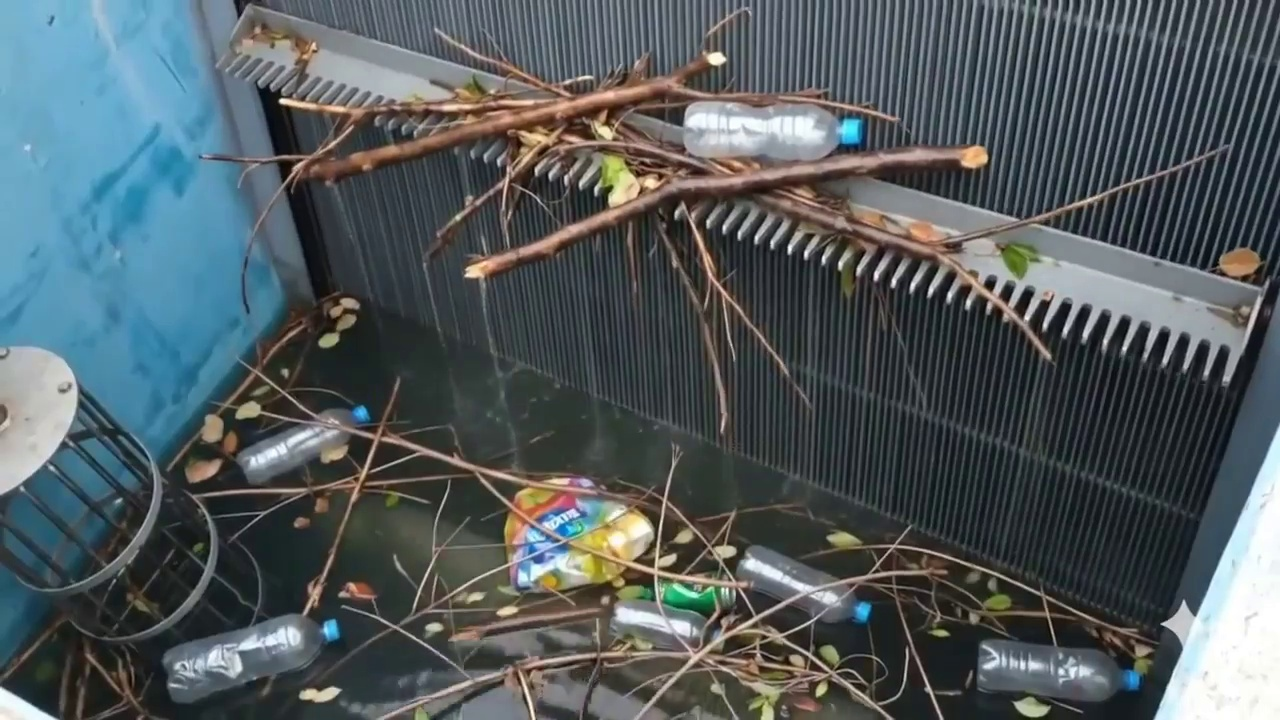debris: (255, 28, 1246, 439), (504, 477, 654, 591), (165, 612, 342, 700), (238, 404, 373, 482), (738, 545, 872, 621), (979, 638, 1143, 700), (613, 581, 738, 645), (525, 508, 605, 539)
